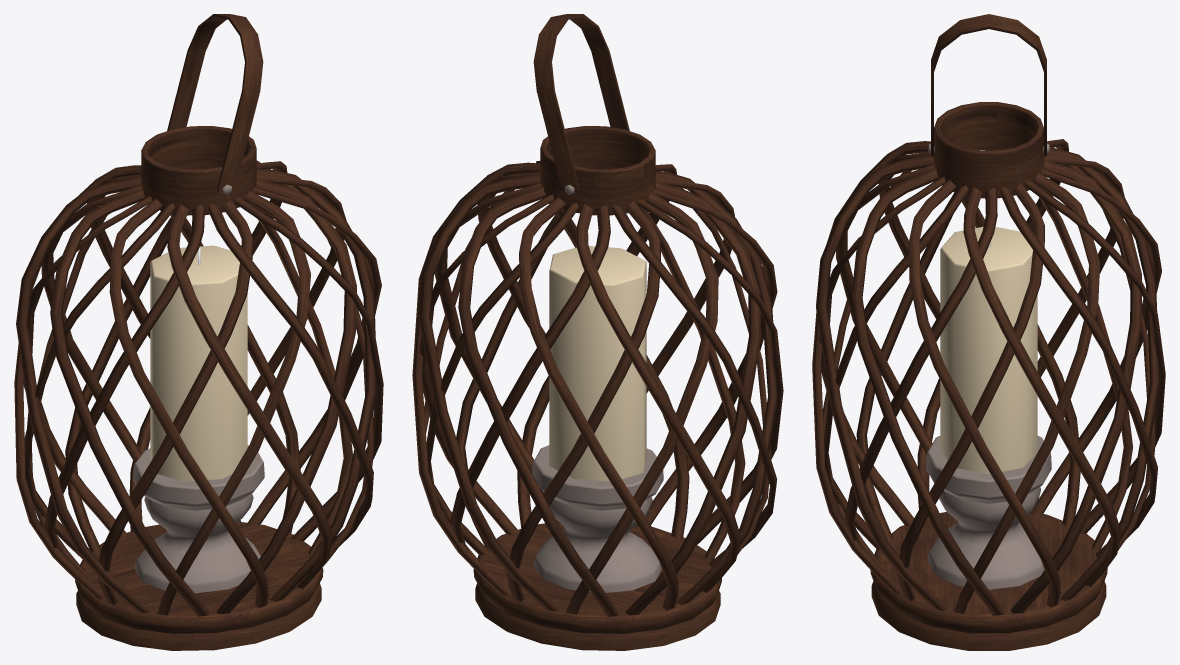
3 views of the same model, side by side, from view 1: azimuth 30°, elevation 25°; view 2: azimuth 150°, elevation 25°; view 3: azimuth 270°, elevation 25° (orthographic). The views are drawn at different scales.
Bounding box in the file's own units: 0.3 × 0.5037 × 0.27.
Materials: 4 (1 with a texture image).
